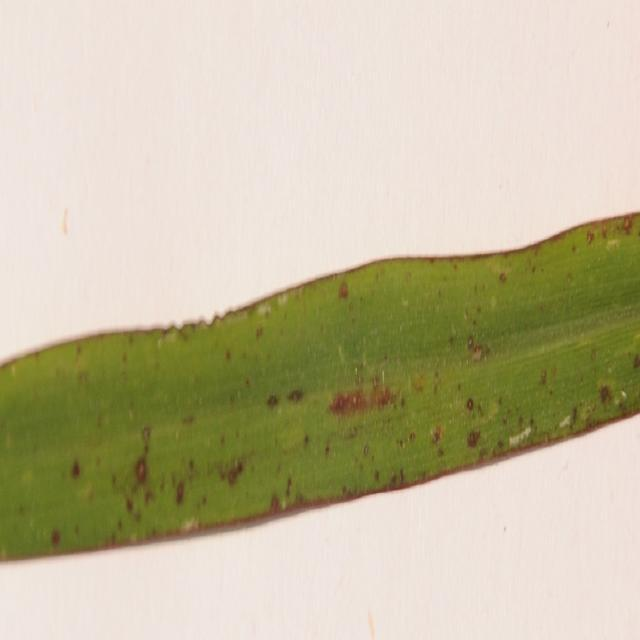Leafsmut: (479, 398, 503, 421), (330, 392, 354, 413), (464, 394, 485, 418), (508, 426, 533, 446), (576, 401, 596, 424), (75, 478, 95, 500), (376, 388, 394, 407), (175, 324, 194, 342), (134, 460, 148, 483), (228, 460, 244, 480), (19, 467, 35, 487), (336, 343, 349, 366), (180, 518, 199, 533), (359, 349, 369, 376), (175, 480, 186, 504), (412, 376, 427, 393), (286, 388, 304, 402), (162, 329, 180, 343), (256, 303, 273, 317), (466, 430, 479, 448), (599, 386, 612, 404), (621, 216, 634, 234), (388, 472, 402, 488), (76, 370, 90, 386), (168, 319, 185, 332), (338, 281, 350, 299), (432, 425, 444, 443), (614, 391, 628, 406), (204, 313, 219, 327), (471, 345, 484, 361), (70, 461, 82, 478), (632, 328, 640, 353), (141, 425, 152, 443), (50, 529, 61, 546), (559, 414, 572, 428), (570, 406, 579, 426), (96, 412, 107, 428), (538, 369, 548, 386), (266, 394, 279, 407), (370, 374, 382, 388), (606, 238, 621, 249), (285, 476, 293, 496), (125, 497, 134, 513), (586, 230, 596, 244), (5, 431, 12, 450), (182, 414, 195, 424), (466, 398, 475, 412), (276, 498, 286, 510), (129, 531, 139, 543), (550, 366, 558, 380), (278, 295, 288, 306), (255, 326, 264, 338), (74, 343, 83, 355), (380, 366, 386, 384), (224, 348, 232, 361), (467, 336, 475, 349), (362, 444, 370, 457), (498, 272, 508, 282), (401, 296, 410, 307), (303, 433, 310, 447), (188, 458, 195, 472), (156, 337, 164, 349), (490, 296, 498, 308), (590, 348, 598, 360), (463, 309, 470, 322), (448, 335, 456, 346), (324, 444, 331, 456), (374, 470, 381, 482), (437, 447, 445, 457), (496, 440, 504, 450), (601, 228, 608, 239), (409, 431, 416, 442), (244, 377, 251, 388), (121, 352, 128, 363), (10, 364, 16, 376), (518, 415, 524, 427), (529, 416, 535, 428), (635, 355, 640, 369), (452, 262, 459, 271), (566, 273, 573, 282), (475, 305, 482, 313), (571, 244, 577, 253), (354, 368, 359, 377)
